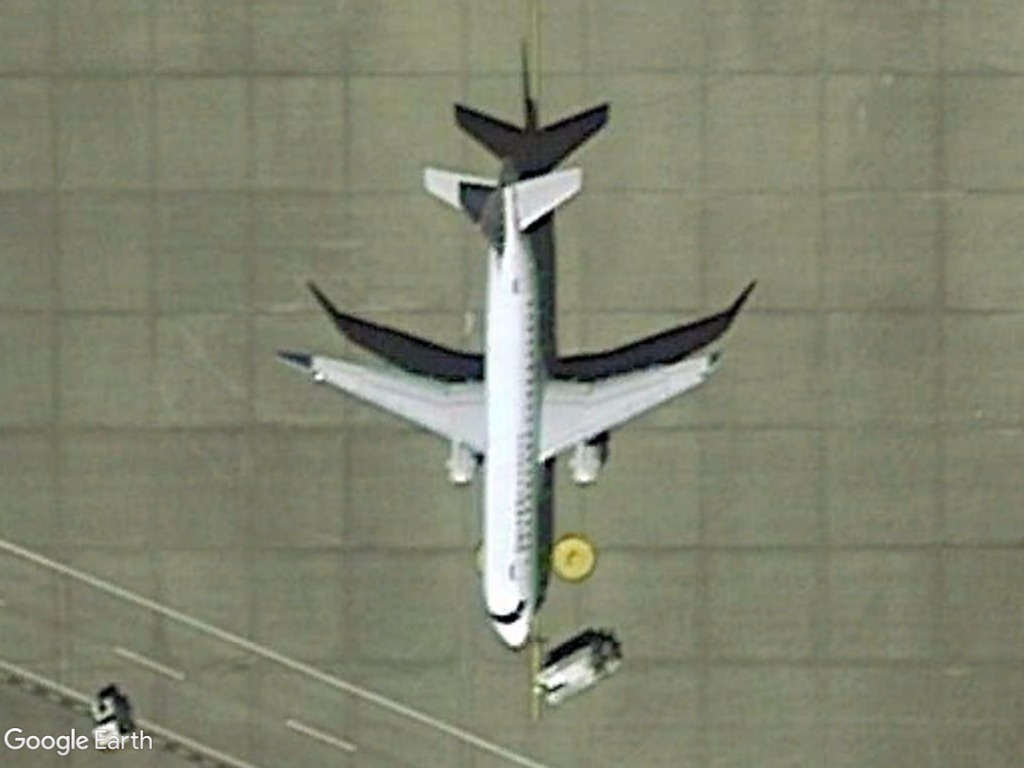airliner: (270, 154, 729, 660)
